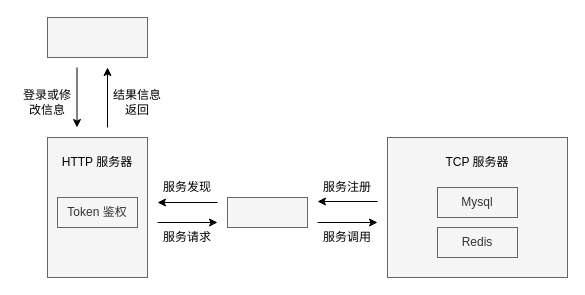
The diagram is 585 pixels wide and 295 high, and some of its shapes have lost their labels. Each missing label, with the centre of its shape:
etcd: the point at 267,212
用户: the point at 97,37
